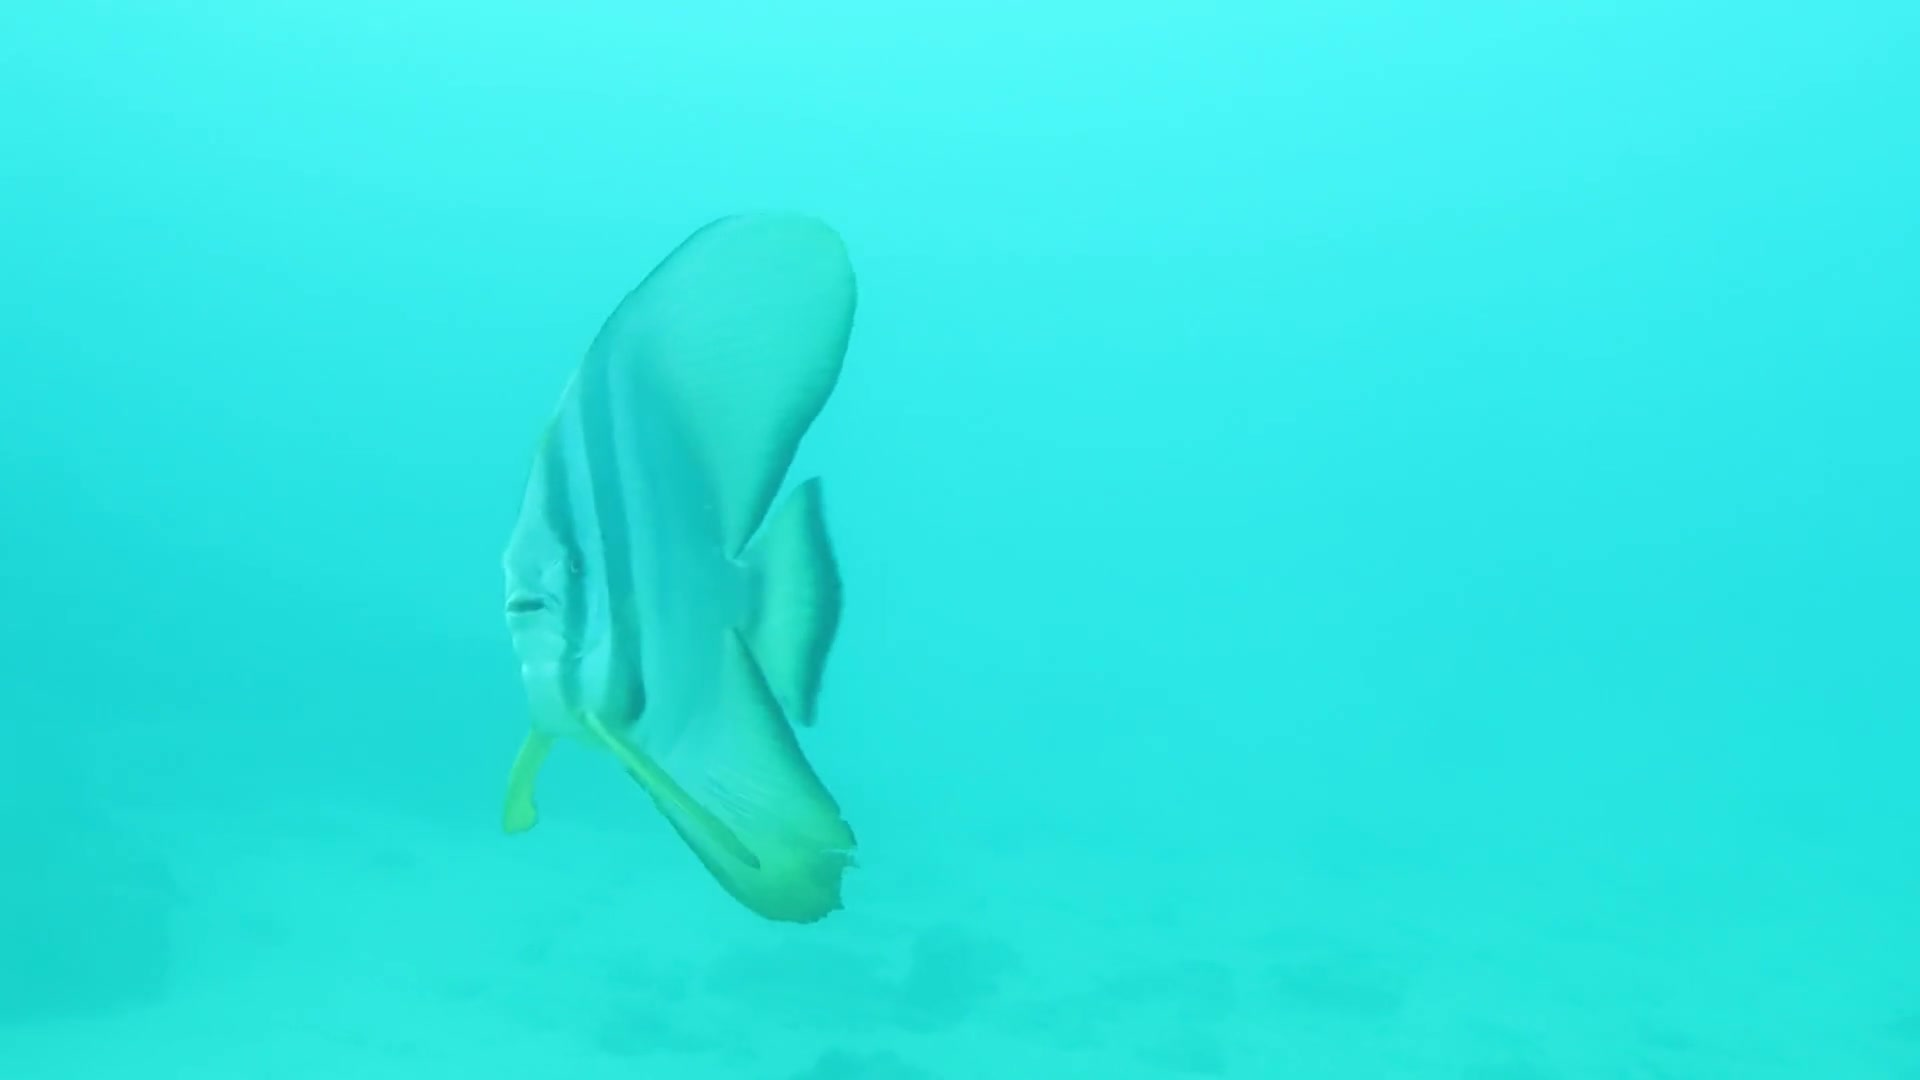Platax teira: (451, 194, 913, 918)
